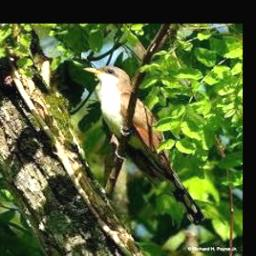Cuckoo: (83, 65, 203, 224)
